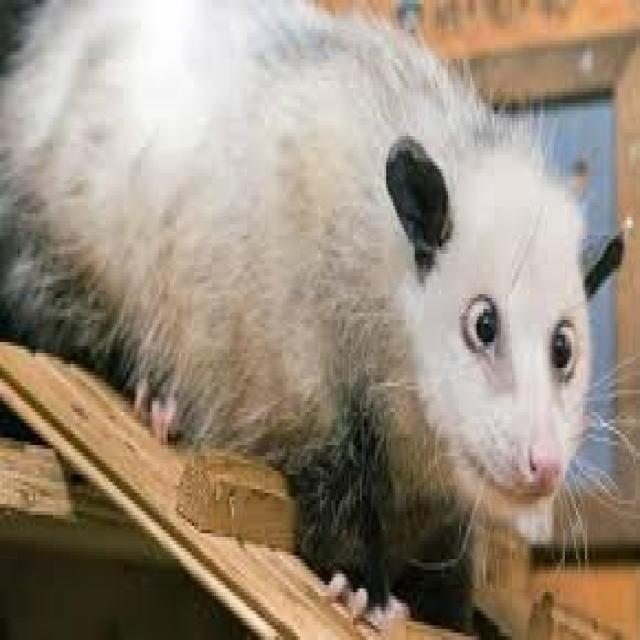Possum: (0, 4, 626, 606)
